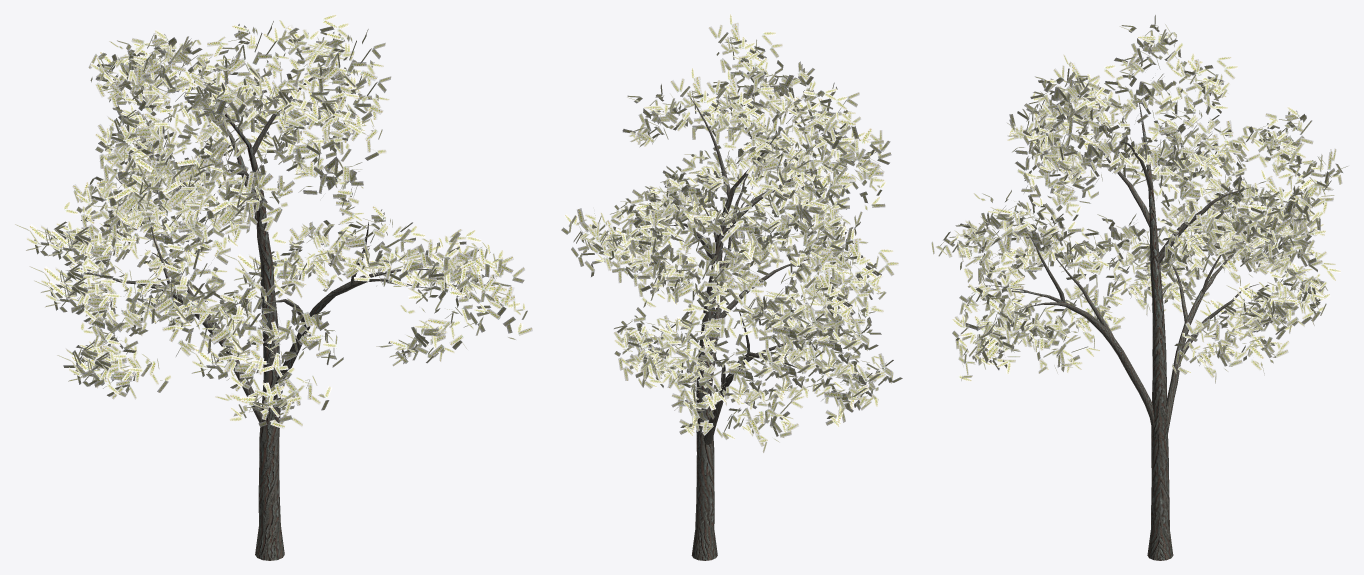
File: tree_40.glb
3 views of the same model, side by side, from view 1: azimuth 30°, elevation 25°; view 2: azimuth 150°, elevation 25°; view 3: azimuth 270°, elevation 25° (orthographic). The views are drawn at different scales.
Visible parts, largest first — view 1: MainBuilding; view 2: MainBuilding; view 3: MainBuilding.
Part boxes in pixels (bbox=[...]): MainBuilding: bbox=[15, 14, 532, 560]; MainBuilding: bbox=[561, 14, 902, 560]; MainBuilding: bbox=[931, 15, 1347, 560].
Size of the model in its own units: 0.7316 by 1.06 by 0.8308.
1 material, 1 textured.
